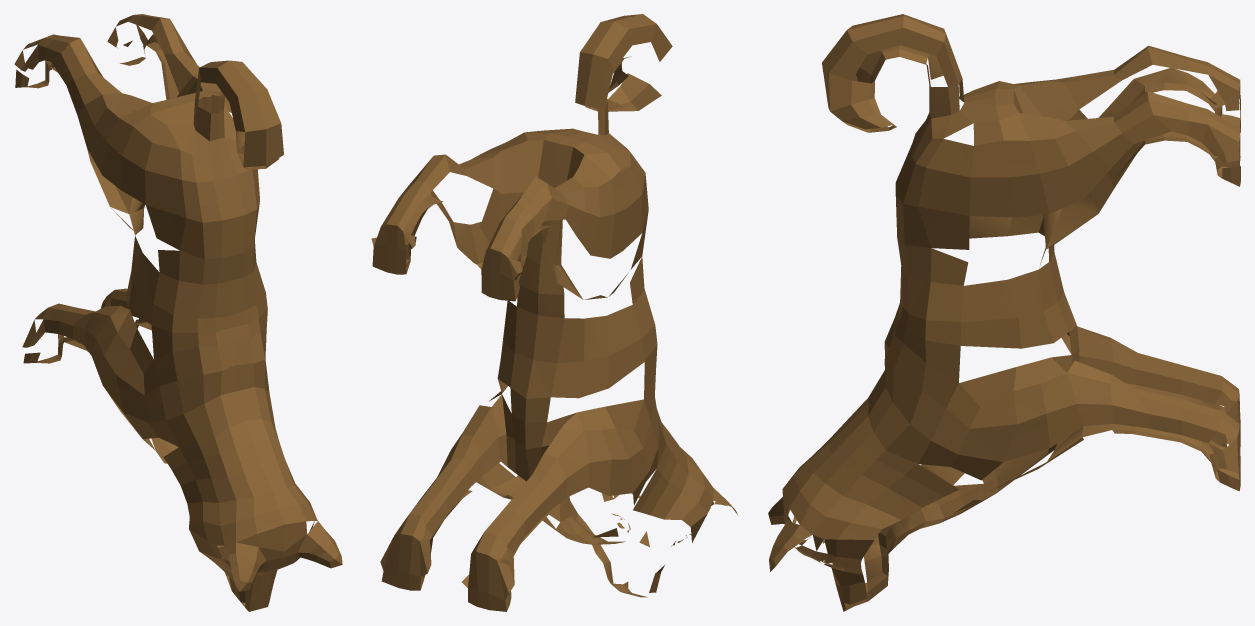
File: polypizza-shiba.glb
3 renders of one model, left to right at view 1: azimuth 30°, elevation 25°; view 2: azimuth 150°, elevation 25°; view 3: azimuth 270°, elevation 25°, orthographic. The views are drawn at different scales.
Parts seen in each view (by area): view 1: ShibaInu; view 2: ShibaInu; view 3: ShibaInu.
Part boxes in pixels (x1=…): ShibaInu: x1=14, y1=14, x2=342, y2=611; ShibaInu: x1=371, y1=14, x2=737, y2=611; ShibaInu: x1=768, y1=14, x2=1240, y2=611.
Size of the model in its own units: 0.2559 by 1 by 0.7262.
